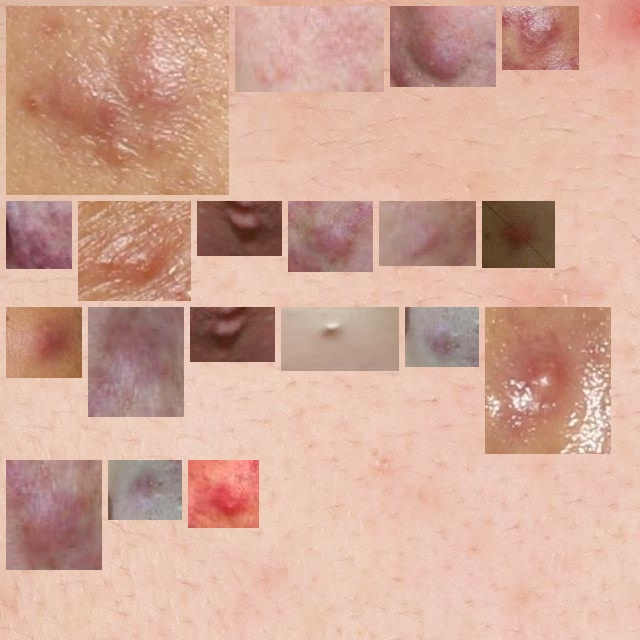nodule: (14, 14, 221, 187), (493, 315, 603, 446), (243, 14, 376, 84), (86, 209, 183, 293), (96, 315, 176, 409), (14, 468, 94, 562), (398, 14, 488, 79), (289, 315, 391, 363), (387, 209, 468, 258), (296, 209, 365, 264), (14, 315, 74, 370), (510, 14, 571, 62), (490, 209, 547, 260), (196, 468, 251, 520), (205, 209, 274, 248), (198, 315, 267, 354), (14, 209, 64, 261), (413, 315, 471, 359), (116, 468, 174, 512)
